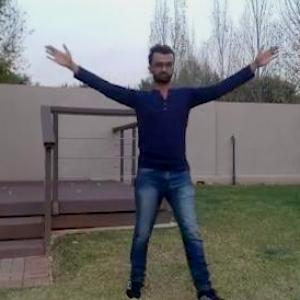takeoff: (30, 47, 252, 297)
